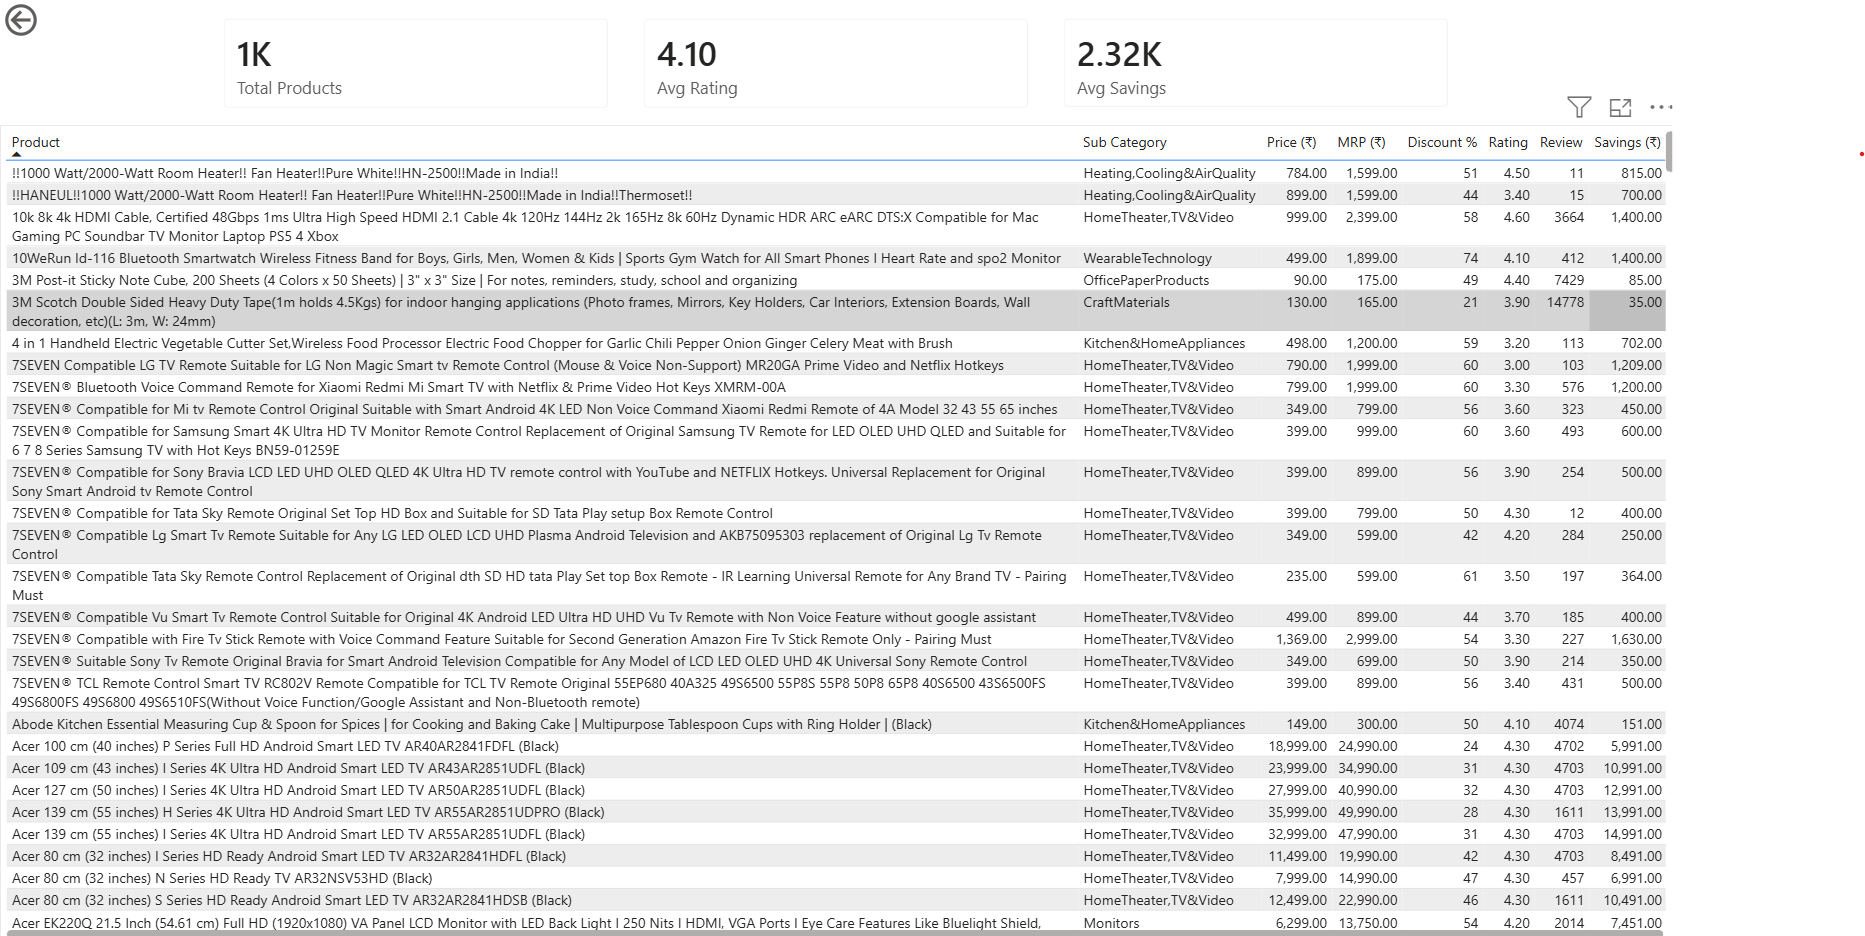

What the dashboard file says about the page in this screenshot:
{"tool":"powerbi","page":{"name":"Category Detail","canvas":[1600,900],"ordinal":3},"visuals":[{"type":"actionButton","box":[0,0,100,40],"z":0},{"type":"cardVisual","fields":{"Data":["amazon_cleaned.Total Products"]},"box":[195.6,1.1,400,119],"z":1000},{"type":"cardVisual","fields":{"Data":["amazon_cleaned.Avg Rating"]},"box":[595.6,1.1,400,119],"z":2000},{"type":"cardVisual","fields":{"Data":["amazon_cleaned.Avg Savings"]},"box":[995.6,1.1,400,118.3],"z":3000},{"type":"tableEx","fields":{"Values":["amazon_cleaned.product_name","amazon_cleaned.Sub_Category","amazon_cleaned.discounted_price","amazon_cleaned.actual_price","amazon_cleaned.discount_percentage","amazon_cleaned.rating","amazon_cleaned.rating_count","amazon_cleaned.savings_amount"]},"box":[0,120,1600,780],"z":4000}]}

Visuals, with their boxes on the page's 1600x900 design canvas (x1, y1, x2, y2). These are canvas units, not pixel positions in the 1865x936 screenshot, which may show the page scaled, cropped or inside an application window:
actionButton: locate(0, 0, 100, 40)
cardVisual - amazon_cleaned.Total Products: locate(196, 1, 596, 120)
cardVisual - amazon_cleaned.Avg Rating: locate(596, 1, 996, 120)
cardVisual - amazon_cleaned.Avg Savings: locate(996, 1, 1396, 119)
tableEx - amazon_cleaned.product_name x amazon_cleaned.Sub_Category: locate(0, 120, 1600, 900)
